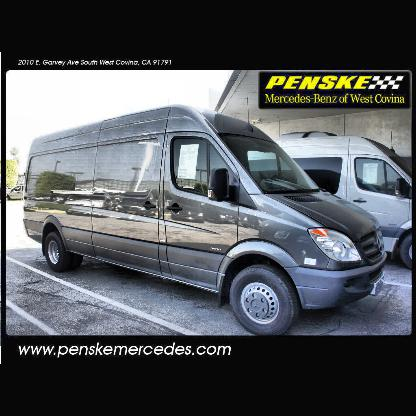Mercedes-Benz Sprinter Van 2012: (23, 97, 389, 337)
